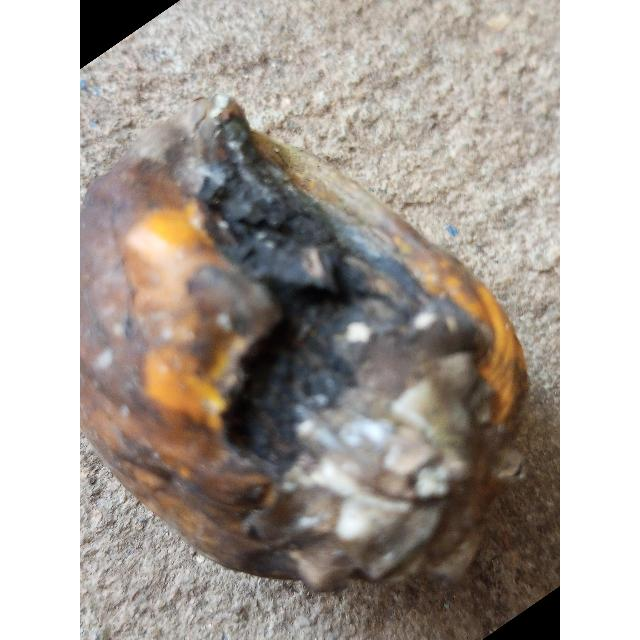damaged: (80, 95, 527, 591)
